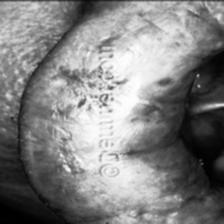Potentially Malignant Skin Tumors: (46, 58, 102, 108)
